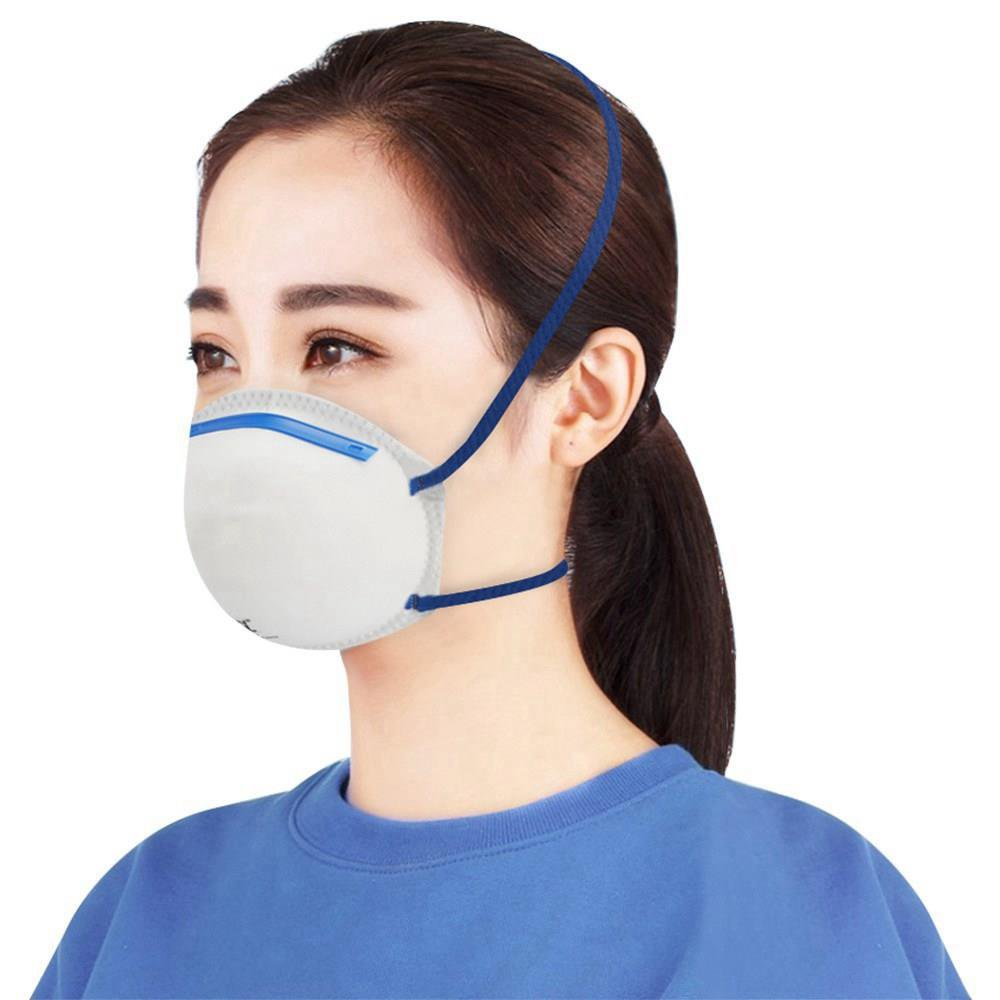mask: (153, 23, 723, 663)
